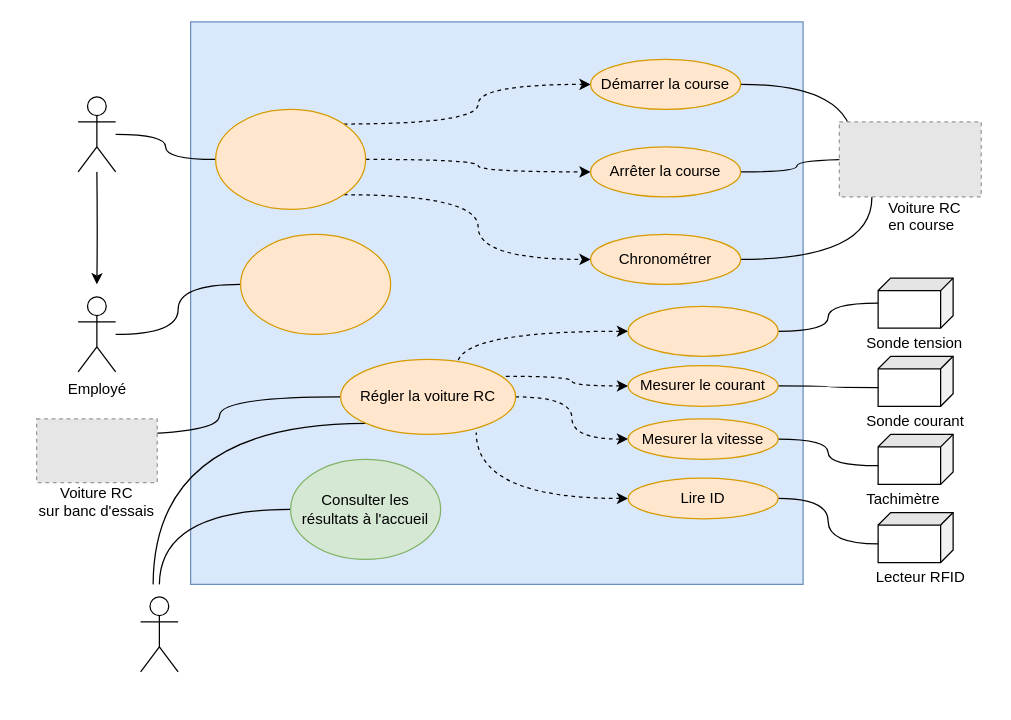
This 1011x720 diagram has some shape labels left out. Grey dashed boxes stand in for pictures. Here are the shapes that lost their labels. From the top down, the centre of each, then its label:
pixel 96 134: Commissaire de cource
pixel 290 158: Gérer les courses
pixel 315 283: Inscrire les participants dans la série
pixel 702 330: Mesurer la tension
pixel 158 634: Participant
